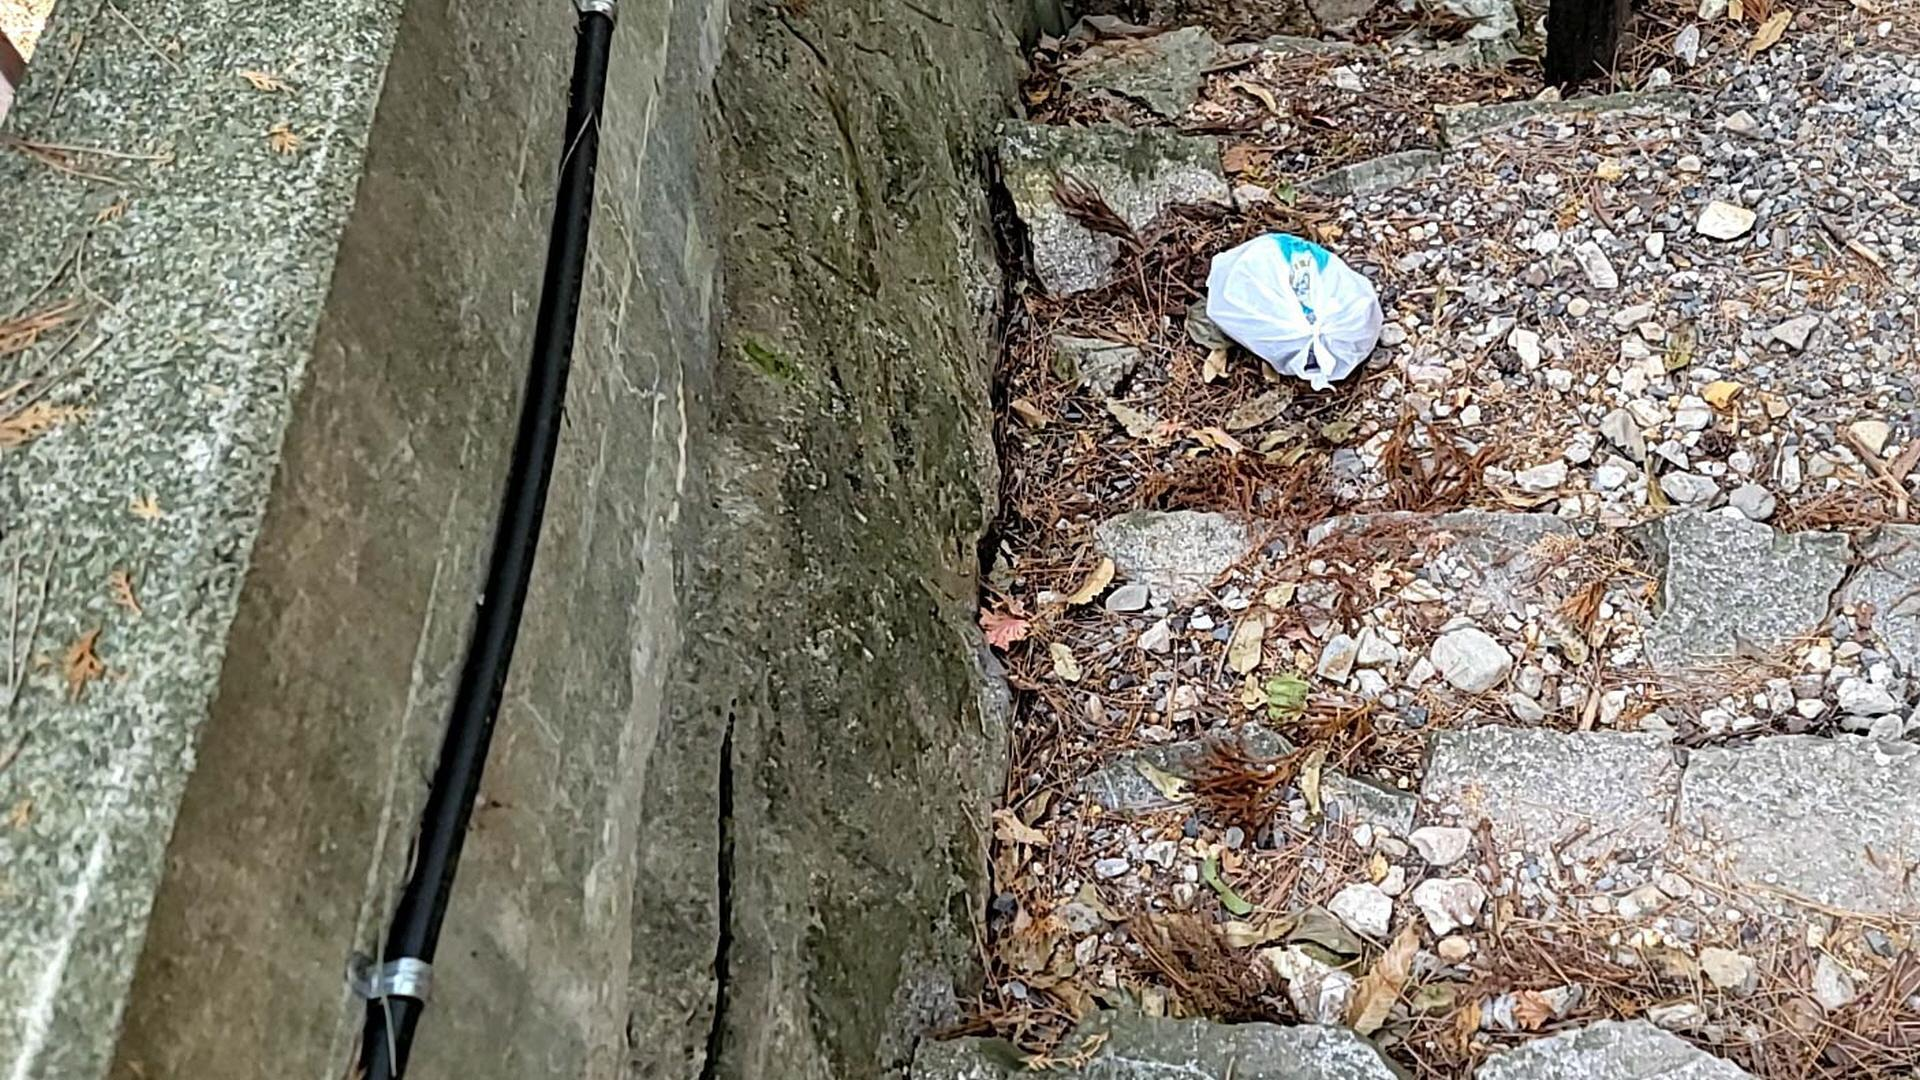white_bag: (1195, 229, 1393, 404)
